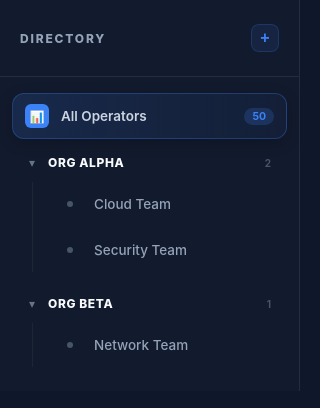
it: TeamSidebar › should toggle organization expansion
Expected: the text "Network Team" is shown, x1=94 y1=337 x2=188 y2=353
// Collapse Beta
Click the text "Org Beta" at (81, 304), box x1=48 y1=296 x2=113 y2=311
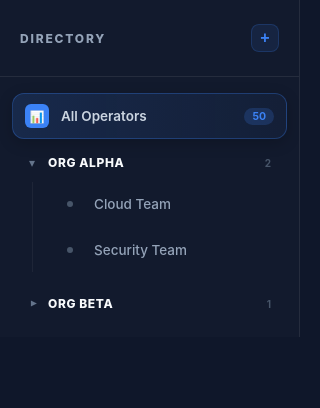
Now the text "Network Team" is gone
